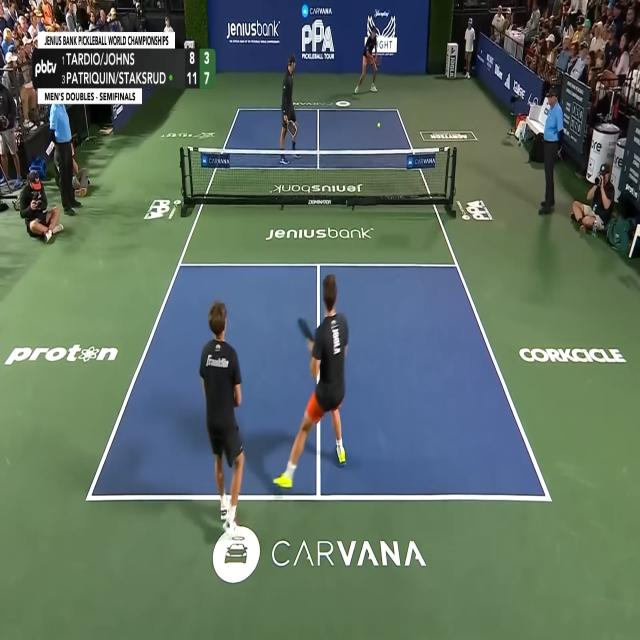ball: (377, 122, 381, 128)
